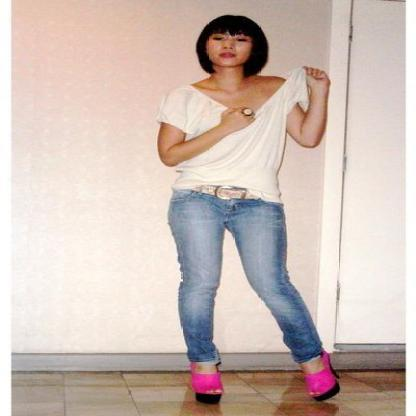pants: (167, 189, 324, 362)
shirt: (171, 81, 306, 201)
shoe: (192, 368, 339, 406)
